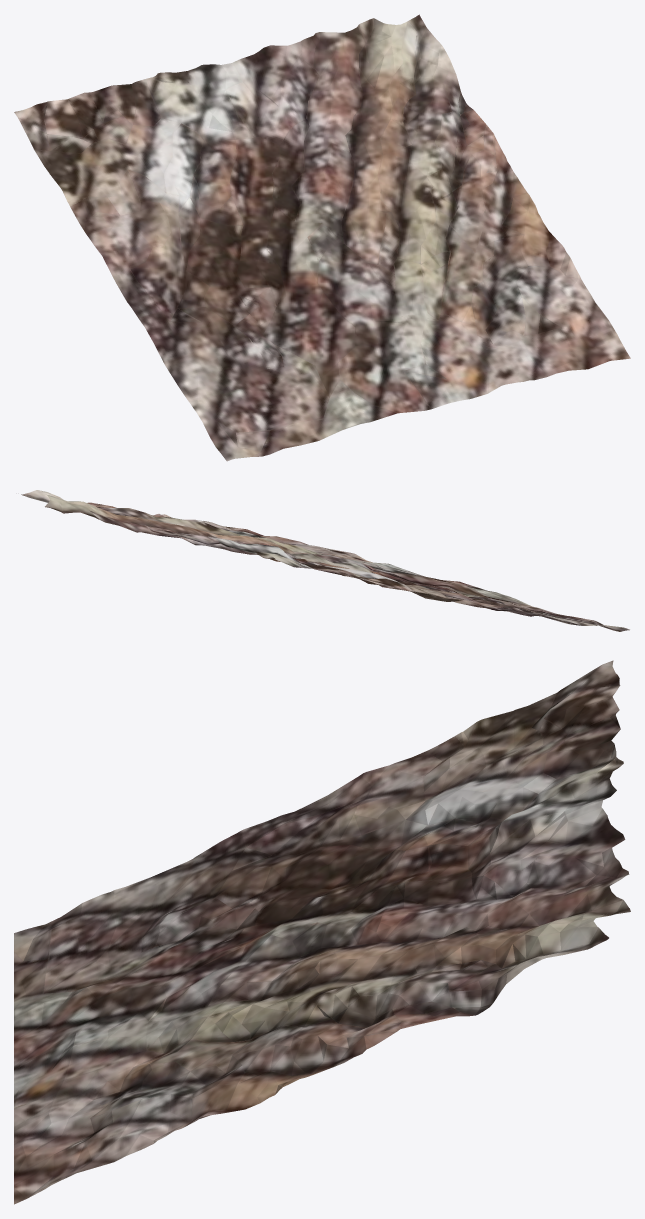
The picture shows the model from 3 angles, top to bottom: view 1: azimuth 30°, elevation 25°; view 2: azimuth 150°, elevation 25°; view 3: azimuth 270°, elevation 25°; orthographic projection. The views are drawn at different scales.
Bounding box in the file's own units: 1.67 × 0.7819 × 1.57.
3 materials, 3 textured.
